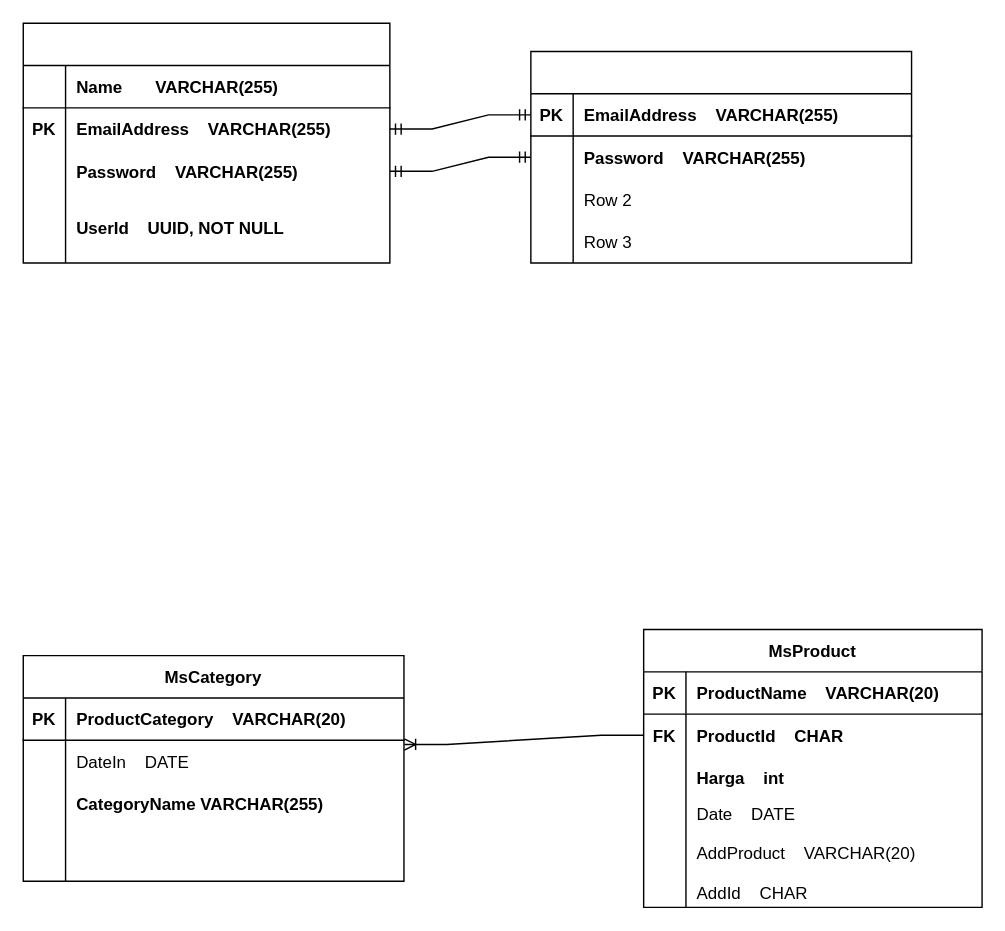
Some shapes in this 1005 by 931 pixel diagram are drawn without their labels. The shapes that lost their labels are listed below. From the top down, each one's box as (x1, y1, x2, y2) in pixels, then its label:
(22, 22, 390, 263): LtRegister
(529, 50, 912, 263): MsLogin
